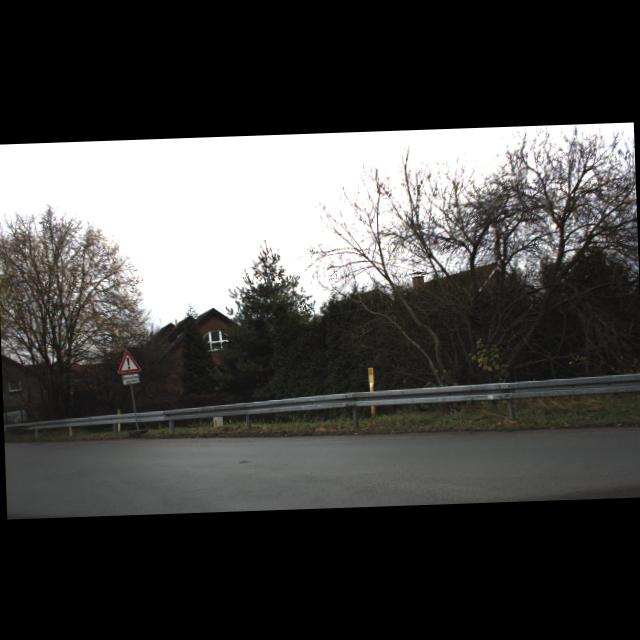danger: (116, 348, 141, 373)
